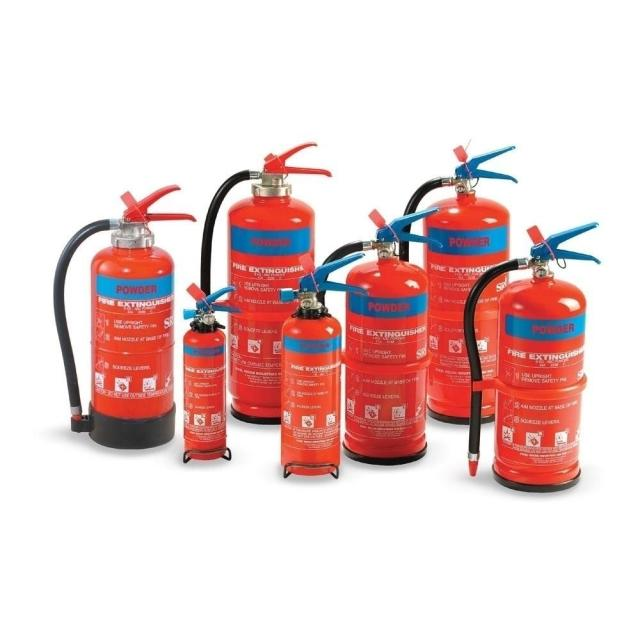fire_extinguisher: (194, 137, 336, 428), (457, 219, 605, 498), (48, 180, 198, 452), (310, 201, 448, 472), (398, 140, 518, 429), (270, 249, 374, 479), (174, 279, 243, 465)
